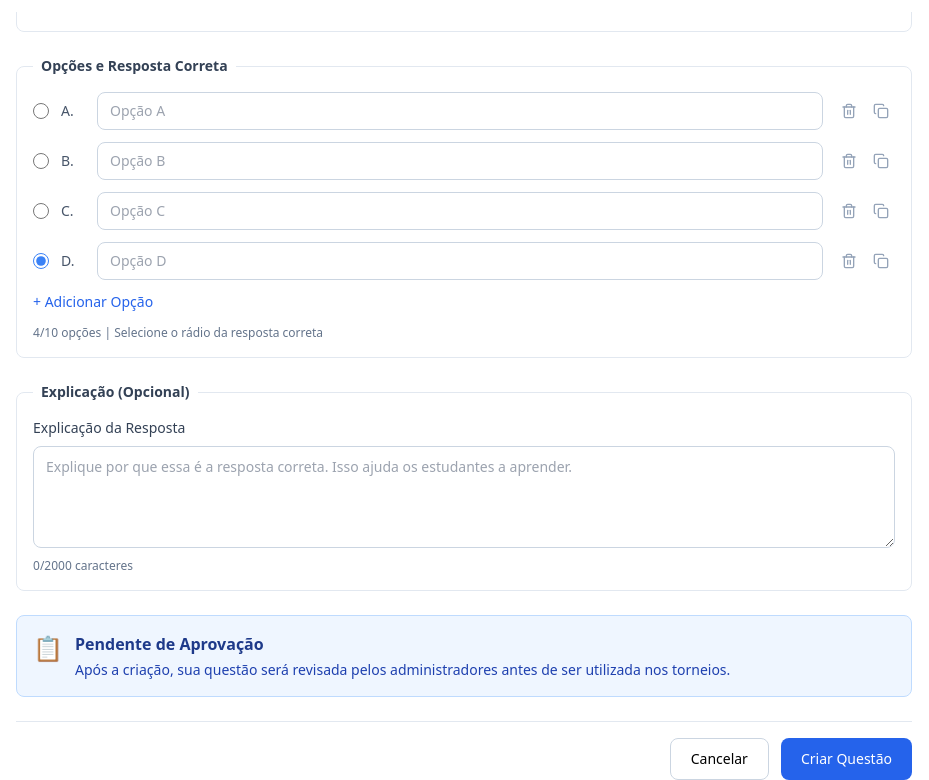
Test: QuestaoForm - Validação › não deve permitir envio com título vazio
Click the button "Criar Questão". click: (846, 759)
box: [781,738,912,779]
(page scrolled)
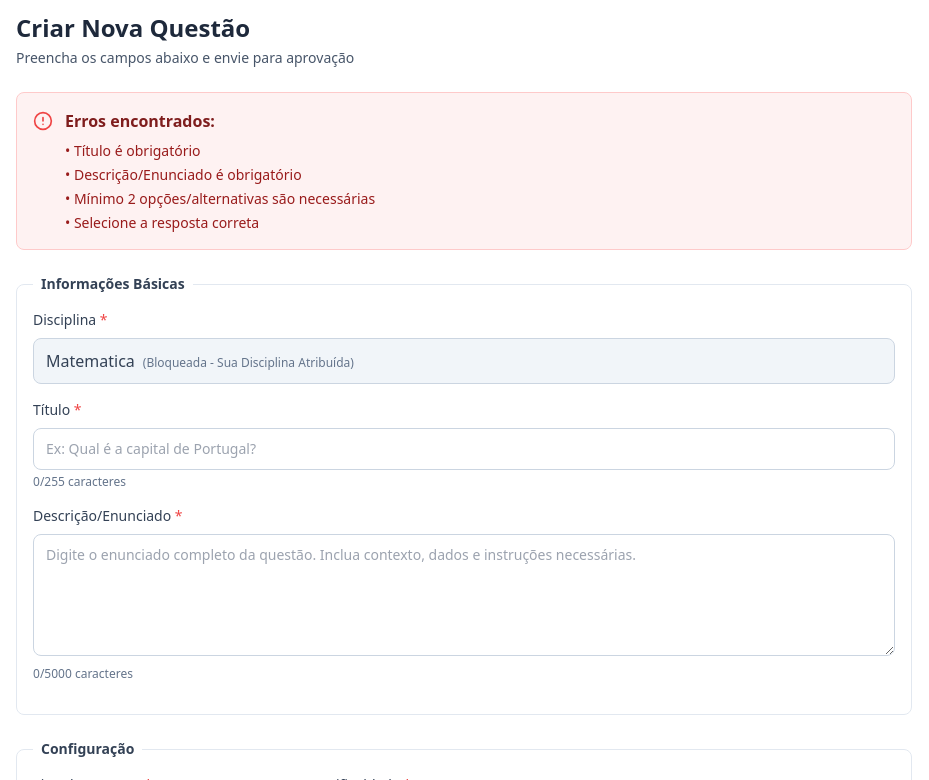
Expected: the list item "• Título é obrigatório" is shown, [65,141,201,160]
